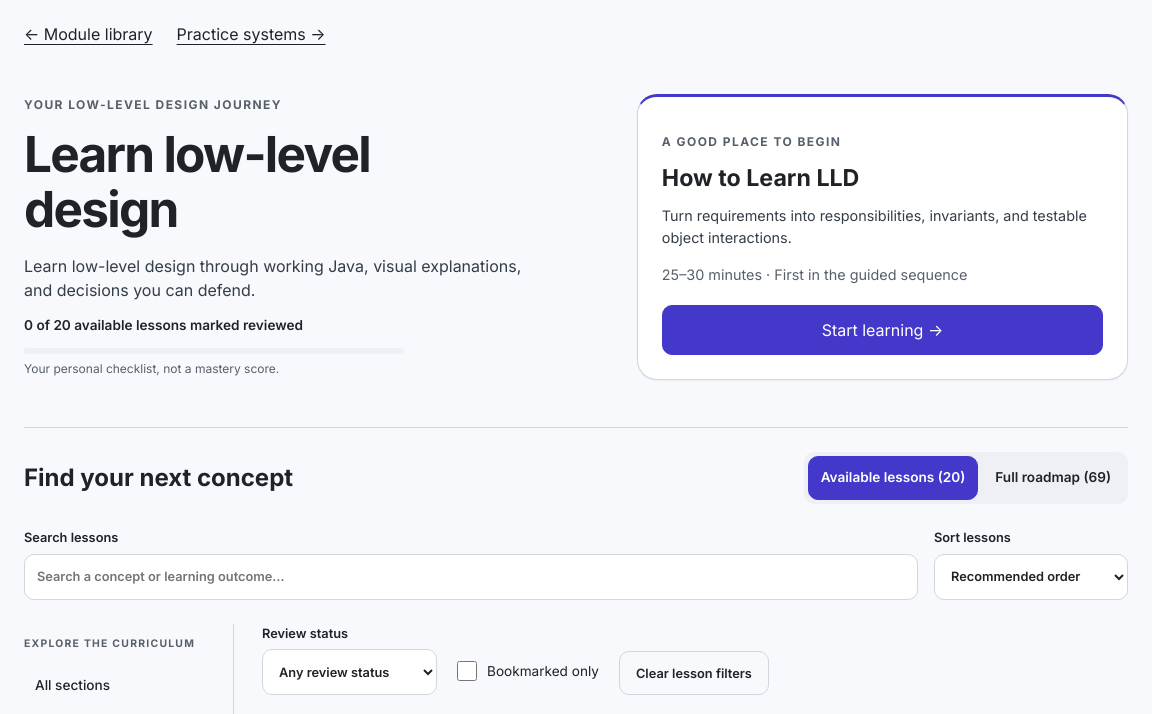
Learning catalog discovery › shows the published DRY lesson in principles while keeping its planned neighbors unavailable
The image size is (1152, 714).
Type "duplicated domain knowledge" into the search field labelled "Search lessons" at (471, 577), box [24,554,918,600]
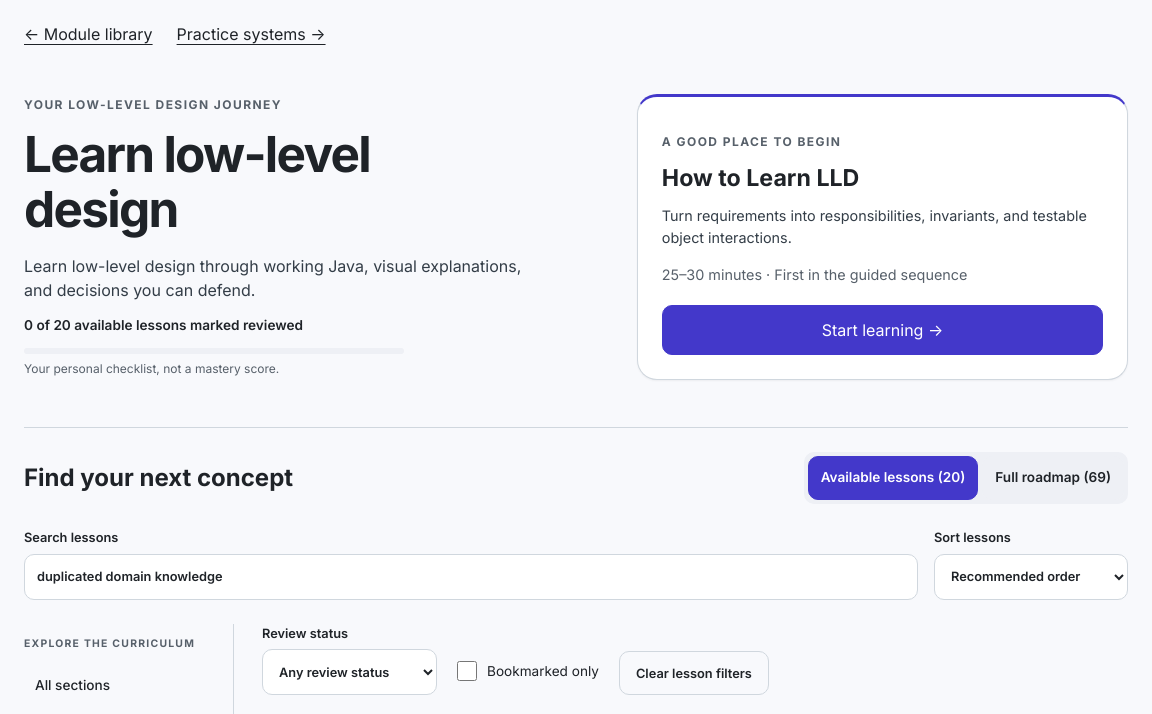
Clear the search field labelled "Search lessons" at (471, 577), box [24,554,918,600]
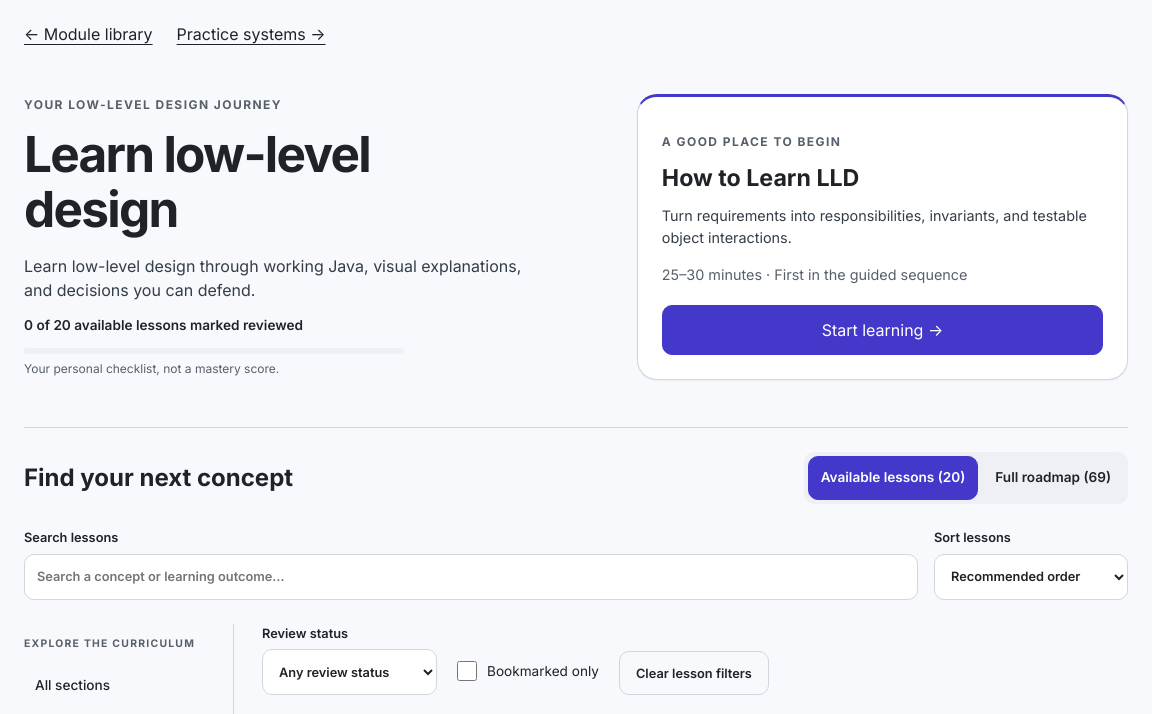
Click the button "Full roadmap (69)" at (1053, 478), box [982,456,1124,500]
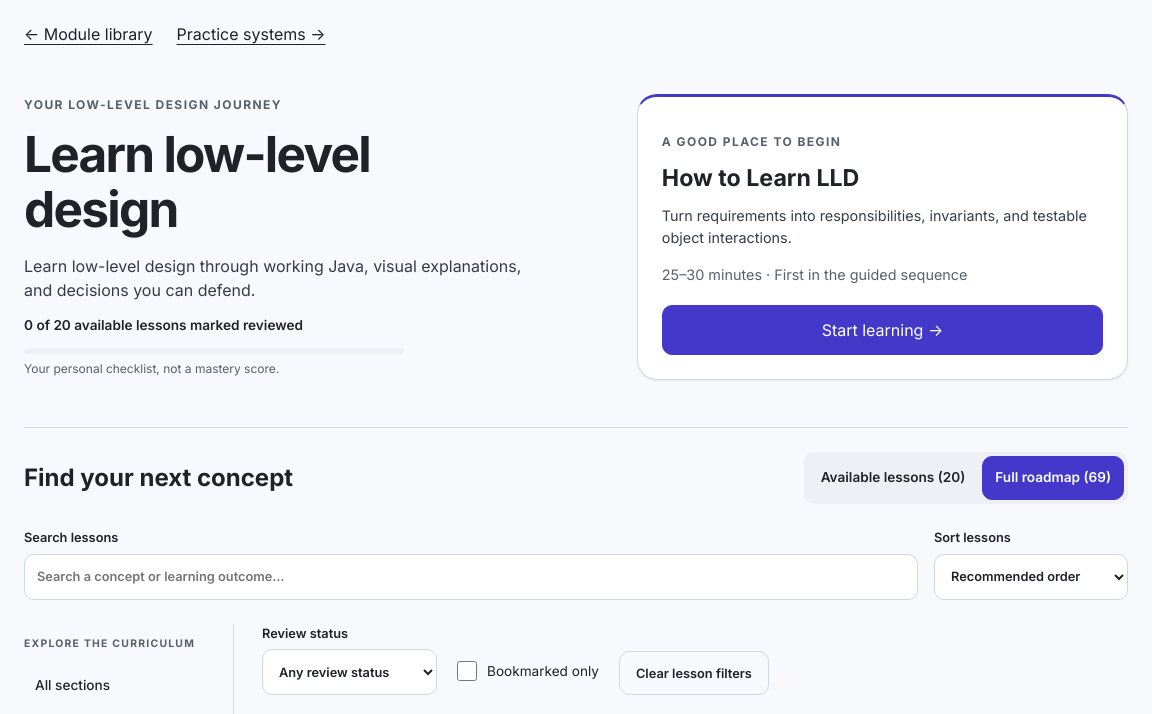
Type "Principle" into the search field labelled "Search lessons" at (471, 577), box [24,554,918,600]
(page scrolled)
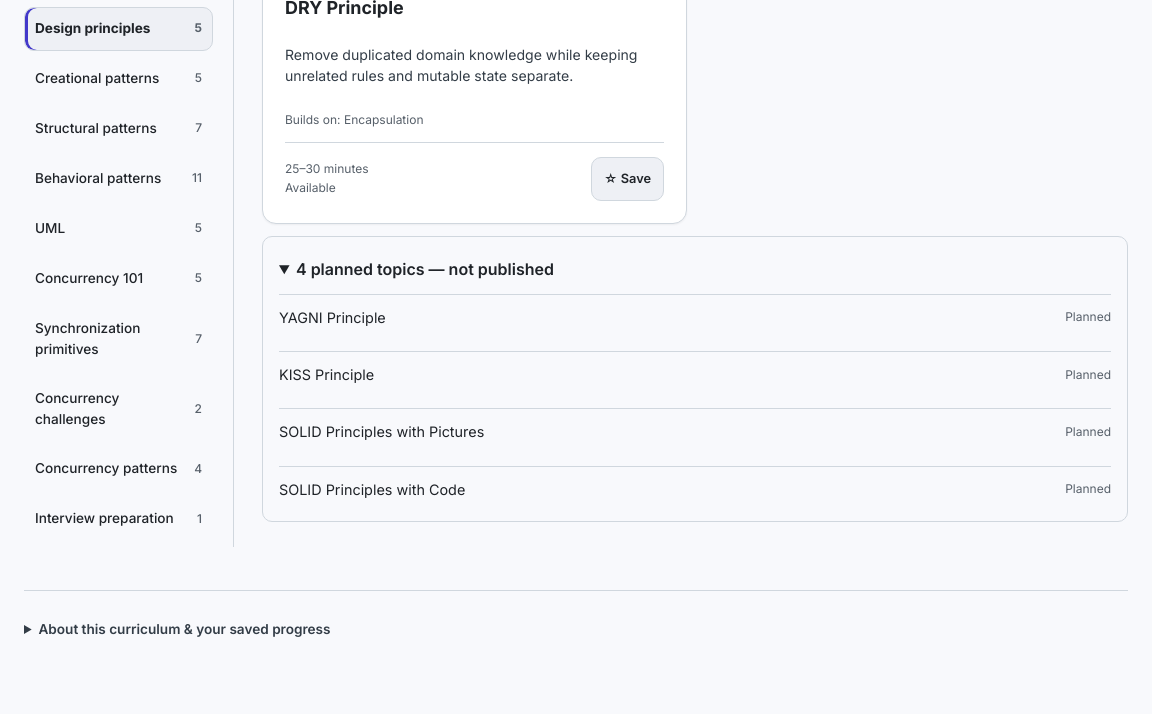
Expected: the text "YAGNI Principle" is shown, [279,307,386,329]
Expected: the text "KISS Principle" is shown, [279,364,374,386]
Expected: the text "SOLID Principles with Pictures" is shown, [279,421,484,444]
